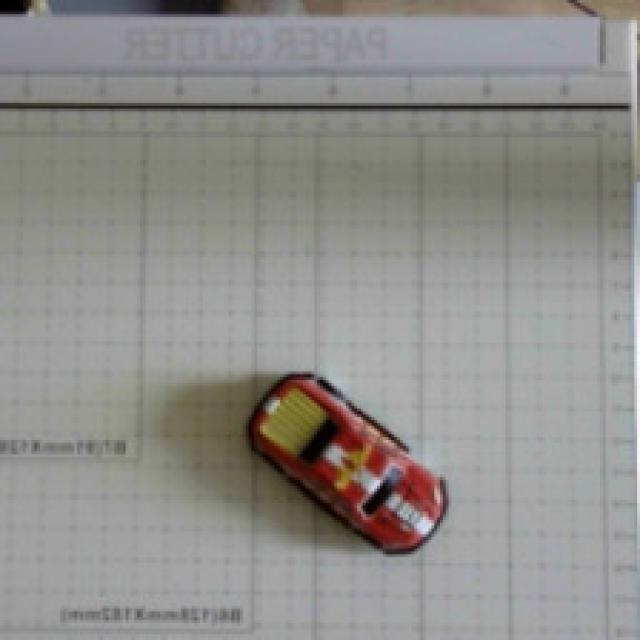Red Car: (225, 315, 482, 612)
